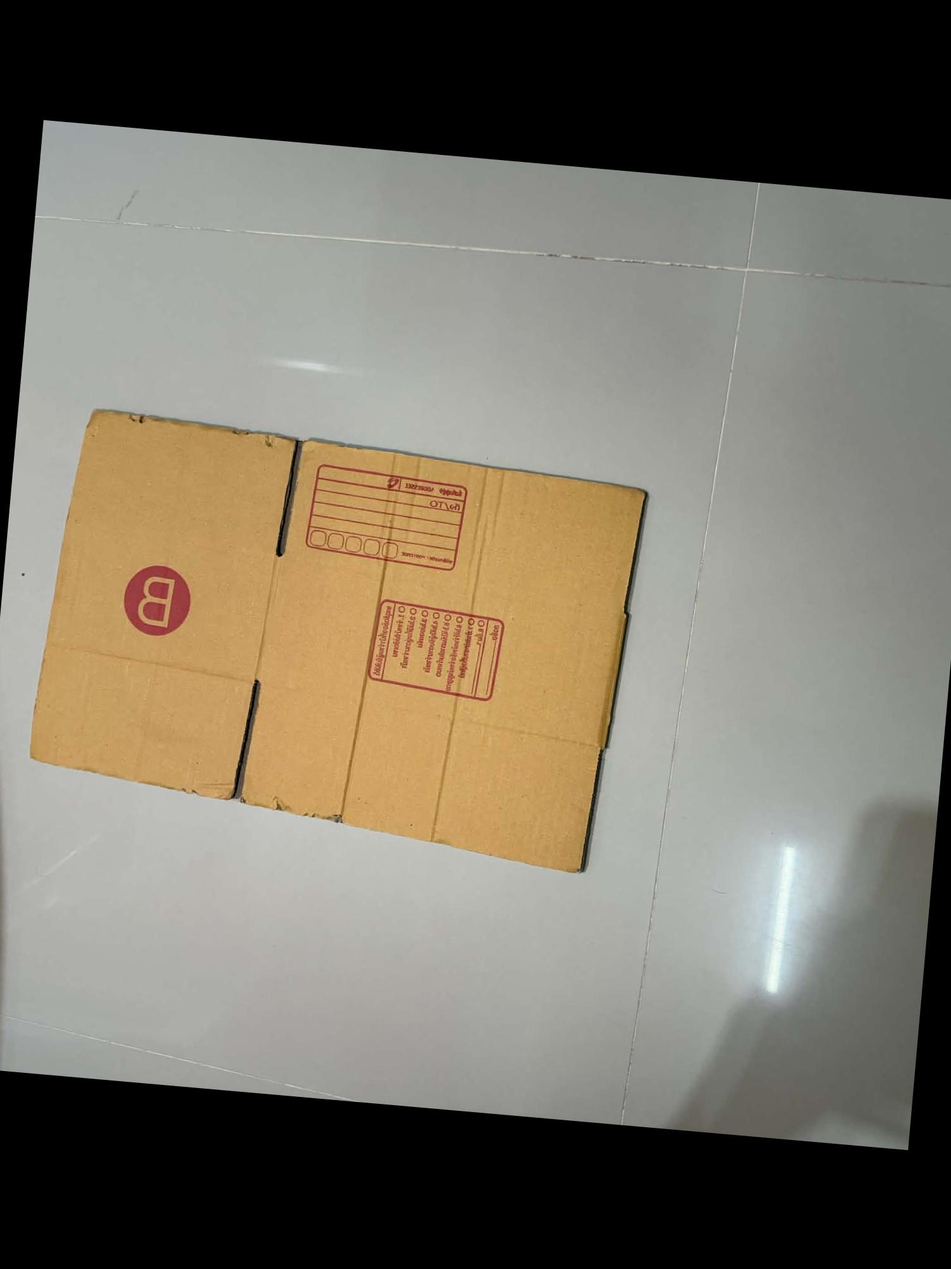box: (300, 461, 467, 574), (359, 591, 512, 705), (119, 558, 194, 638)
class0: (17, 397, 657, 879)
